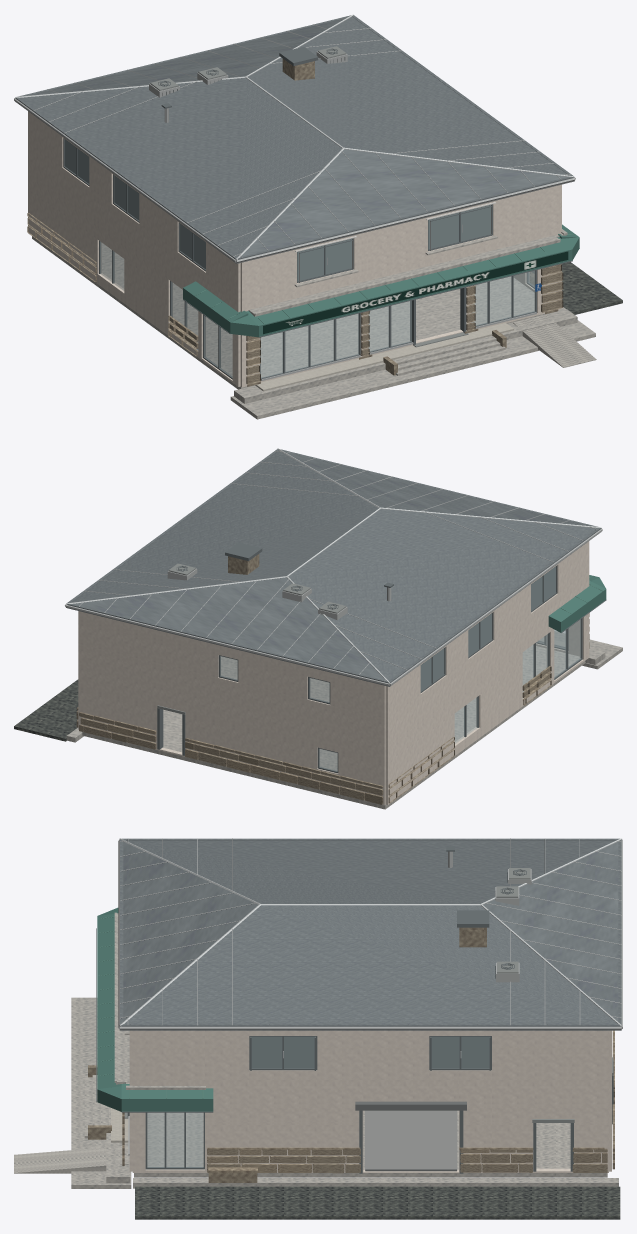
Rendered from HIL06_hlod.glb.
3 renders of one model, top to bottom at view 1: azimuth 30°, elevation 25°; view 2: azimuth 150°, elevation 25°; view 3: azimuth 270°, elevation 25°, orthographic. The views are drawn at different scales.
Visible parts, largest first — view 1: Standing_Seam_Roof_roof, main_plaster, main_concrete, GroundFloor_Storefront_glass, Upstairs_Windows_glass_dark, Awning_Continuous_Folded_Sheet_darkgreen, Roof_Fascia_roof, Reference_Grocery_Pharmacy_Street_Sign_sign_front, Side_Ground_Glass_glass, Parallel_Standing_Seams_aluminum, main_floor, Balcony_concrete (+16 smaller); view 2: Standing_Seam_Roof_roof, main_plaster, main_concrete, Roof_Fascia_roof, Side_Ground_Glass_glass, V4_Hand_Dressed_Irregular_Stone_stone, V4_Hand_Dressed_Irregular_Stone_stone_mid, Parallel_Standing_Seams_aluminum, Service_Apron_asphalt, Upstairs_Windows_glass_dark, Gutter_Runs_aluminum, Roof_Hips_Ridges_chrome (+9 smaller); view 3: Standing_Seam_Roof_roof, main_plaster, Service_Apron_asphalt, main_concrete, Loading_Side_Shutter_shutter_paint, Roof_Fascia_roof, Service_Curb_concrete, Upstairs_Windows_glass_dark, Awning_Continuous_Folded_Sheet_darkgreen, Corner_Glass_glass, Parallel_Standing_Seams_aluminum, Gutter_Runs_aluminum (+16 smaller).
Boxes of the visible parts, left/top/right/bottom form: Standing_Seam_Roof_roof: left=20, top=17, right=568, bottom=257; main_plaster: left=28, top=111, right=561, bottom=387; main_concrete: left=32, top=236, right=595, bottom=419; GroundFloor_Storefront_glass: left=260, top=270, right=535, bottom=378; Upstairs_Windows_glass_dark: left=64, top=139, right=490, bottom=280; Awning_Continuous_Folded_Sheet_darkgreen: left=246, top=237, right=572, bottom=336; Roof_Fascia_roof: left=15, top=15, right=573, bottom=263; Reference_Grocery_Pharmacy_Street_Sign_sign_front: left=263, top=251, right=568, bottom=334; Side_Ground_Glass_glass: left=100, top=242, right=232, bottom=377; Parallel_Standing_Seams_aluminum: left=21, top=18, right=570, bottom=257; main_floor: left=255, top=323, right=513, bottom=391; Balcony_concrete: left=248, top=235, right=560, bottom=316; Standing_Seam_Roof_roof: left=71, top=450, right=596, bottom=680; main_plaster: left=78, top=541, right=589, bottom=805; main_concrete: left=82, top=631, right=622, bottom=809; Roof_Fascia_roof: left=66, top=449, right=601, bottom=686; Side_Ground_Glass_glass: left=454, top=619, right=581, bottom=743; V4_Hand_Dressed_Irregular_Stone_stone: left=76, top=634, right=589, bottom=800; V4_Hand_Dressed_Irregular_Stone_stone_mid: left=76, top=619, right=589, bottom=803; Parallel_Standing_Seams_aluminum: left=79, top=451, right=597, bottom=681; Service_Apron_asphalt: left=14, top=679, right=78, bottom=741; Upstairs_Windows_glass_dark: left=420, top=566, right=555, bottom=690; Gutter_Runs_aluminum: left=65, top=528, right=602, bottom=685; Roof_Hips_Ridges_chrome: left=66, top=448, right=601, bottom=683; Standing_Seam_Roof_roof: left=123, top=840, right=618, bottom=1023; main_plaster: left=129, top=1030, right=611, bottom=1172; Service_Apron_asphalt: left=135, top=1186, right=620, bottom=1219; main_concrete: left=71, top=997, right=607, bottom=1188; Loading_Side_Shutter_shutter_paint: left=365, top=1110, right=457, bottom=1170; Roof_Fascia_roof: left=120, top=838, right=621, bottom=1030; Service_Curb_concrete: left=133, top=1178, right=618, bottom=1188; Upstairs_Windows_glass_dark: left=251, top=1036, right=490, bottom=1068; Awning_Continuous_Folded_Sheet_darkgreen: left=97, top=914, right=125, bottom=1089; Corner_Glass_glass: left=147, top=1112, right=203, bottom=1167; Parallel_Standing_Seams_aluminum: left=120, top=838, right=621, bottom=1025; Gutter_Runs_aluminum: left=118, top=840, right=622, bottom=1029.
Bounding box in the file's own units: 21.02 × 9.15 × 24.53.
Materials: 23 (11 with a texture image).
